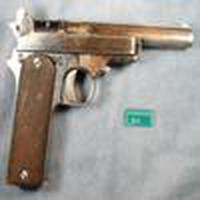gun: (5, 15, 198, 197)
